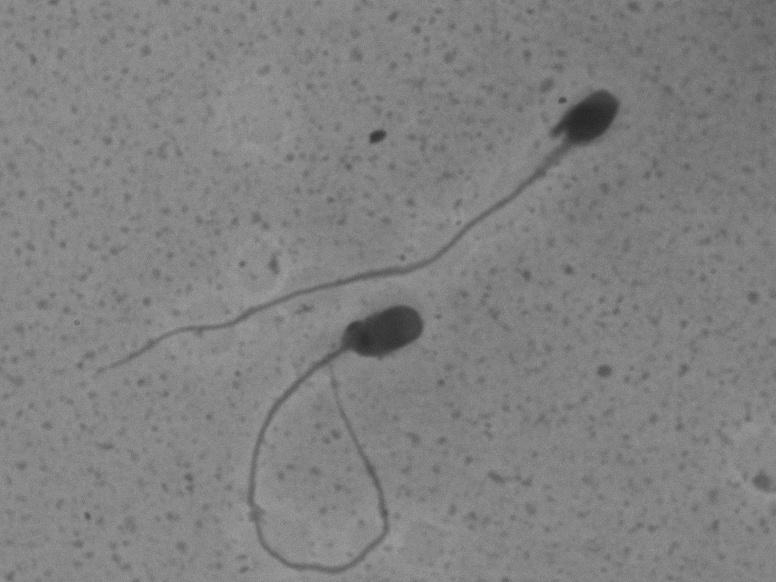Abnormal: (228, 301, 449, 577)
Normal: (66, 78, 636, 397)
